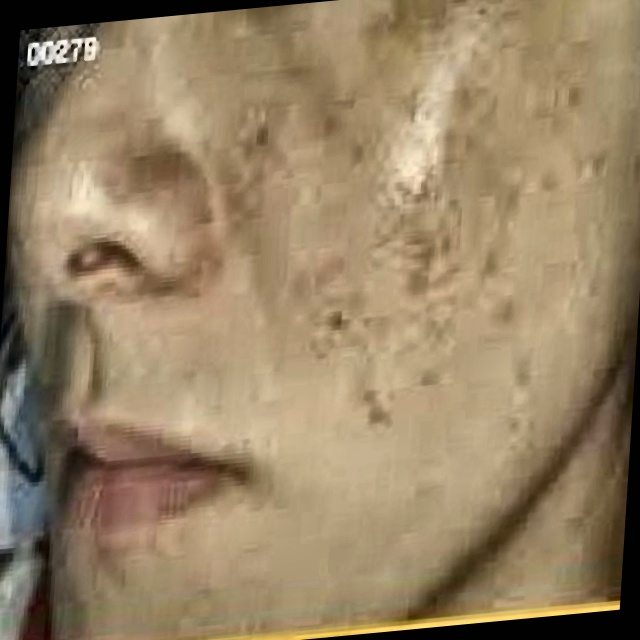comedone: (389, 219, 472, 300), (387, 152, 448, 215)
